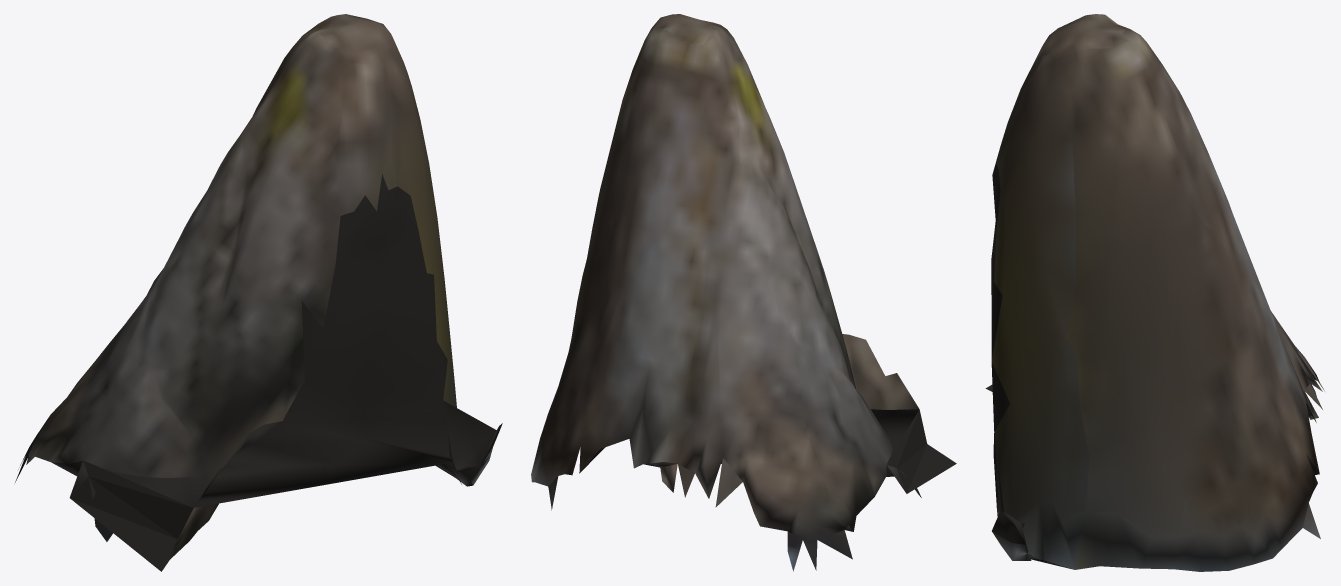
The model's file is rock_patch.glb.
3 renders of one model, left to right at view 1: azimuth 30°, elevation 25°; view 2: azimuth 150°, elevation 25°; view 3: azimuth 270°, elevation 25°, orthographic. The views are drawn at different scales.
Parts seen in each view (by area): view 1: material; view 2: material; view 3: material.
Boxes of the visible parts, bbox=[...] form: material: bbox=[15, 14, 502, 571]; material: bbox=[531, 14, 956, 571]; material: bbox=[985, 14, 1324, 571].
Size of the model in its own units: 6.25 by 7.3 by 4.54.
1 material, 1 textured.
